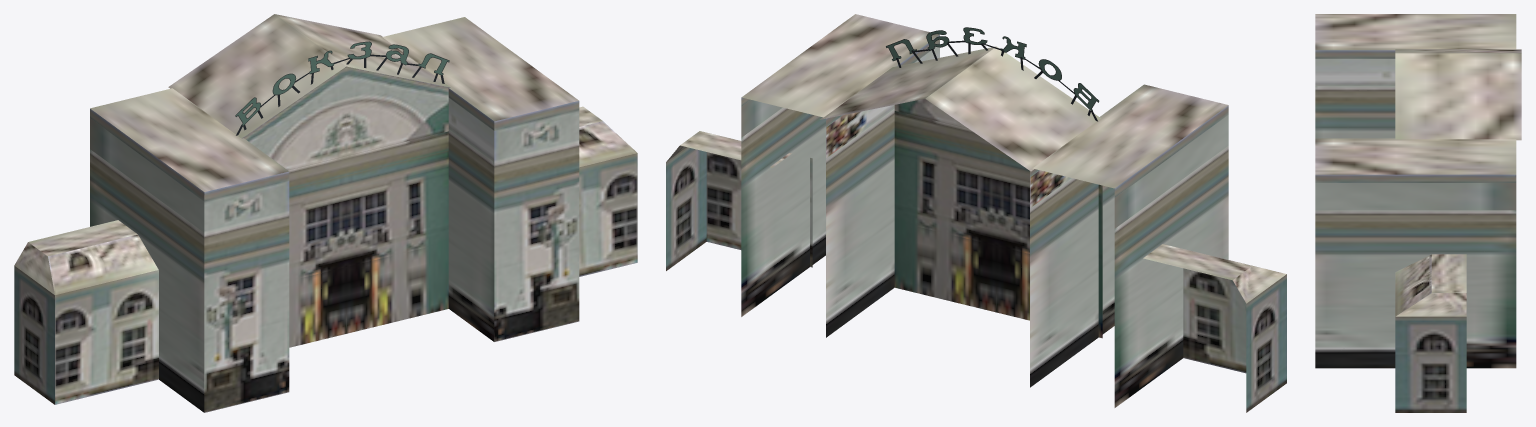
File: Railway station.fbx
3 renders of one model, left to right at view 1: azimuth 30°, elevation 25°; view 2: azimuth 150°, elevation 25°; view 3: azimuth 270°, elevation 25°, orthographic. The views are drawn at different scales.
Visible parts, largest first — view 1: Railway_station; view 2: Railway_station; view 3: Railway_station.
Part boxes in pixels (x1=…): Railway_station: x1=14, y1=14, x2=637, y2=412; Railway_station: x1=666, y1=14, x2=1286, y2=412; Railway_station: x1=1315, y1=14, x2=1521, y2=412.
Size of the model in its own units: 6.94 by 3.24 by 2.42.
1 material, 1 textured.
